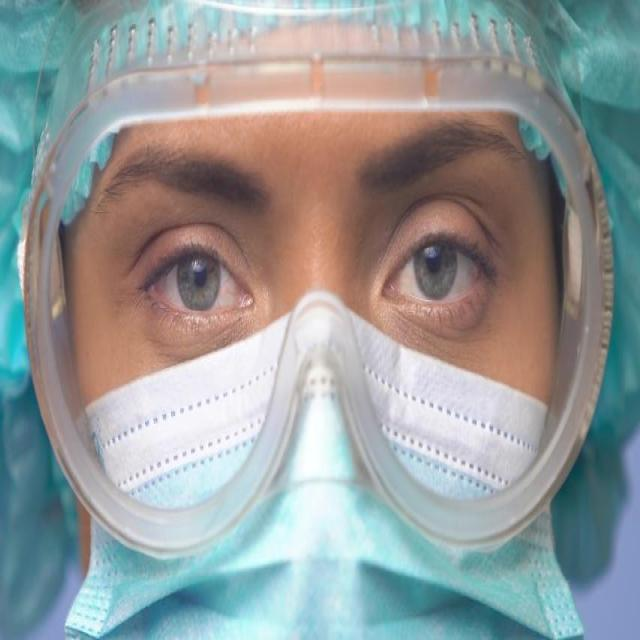Goggles: (23, 0, 620, 555)
Mask: (84, 317, 567, 640)
